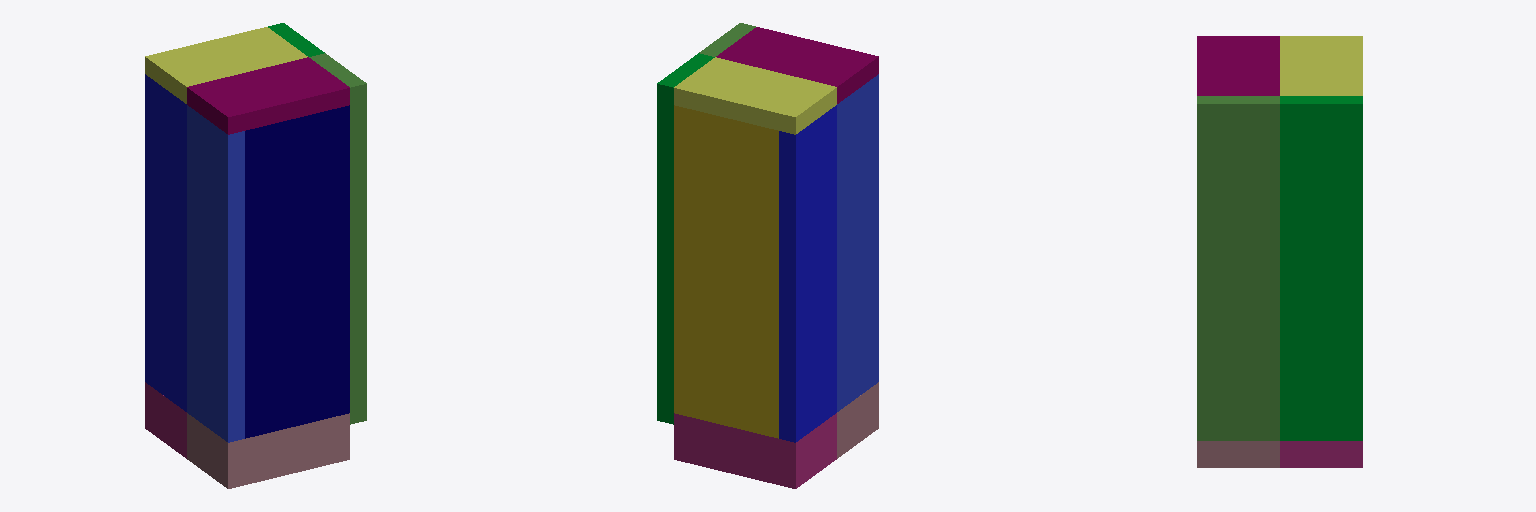
File: kitchen_fridge.obj
3 views of the same model, side by side, from view 1: azimuth 30°, elevation 25°; view 2: azimuth 150°, elevation 25°; view 3: azimuth 270°, elevation 25° (orthographic).
Parts seen in each view (by area): view 1: Shape_IndexedFaceSet.007, Shape_IndexedFaceSet.006, Shape_IndexedFaceSet.009, Shape_IndexedFaceSet.003, Shape_IndexedFaceSet.002, Shape_IndexedFaceSet, Shape_IndexedFaceSet.005, Shape_IndexedFaceSet.004, Shape_IndexedFaceSet.001; view 2: Shape_IndexedFaceSet.008, Shape_IndexedFaceSet.009, Shape_IndexedFaceSet.006, Shape_IndexedFaceSet.005, Shape_IndexedFaceSet.004, Shape_IndexedFaceSet.001, Shape_IndexedFaceSet.003, Shape_IndexedFaceSet.002, Shape_IndexedFaceSet; view 3: Shape_IndexedFaceSet.001, Shape_IndexedFaceSet, Shape_IndexedFaceSet.005, Shape_IndexedFaceSet.003, Shape_IndexedFaceSet.004, Shape_IndexedFaceSet.002.
Part boxes in pixels (x1,y1,x2,y2): Shape_IndexedFaceSet.007: (245,105,349,438); Shape_IndexedFaceSet.006: (187,105,244,442); Shape_IndexedFaceSet.009: (145,74,186,411); Shape_IndexedFaceSet.003: (187,57,349,134); Shape_IndexedFaceSet.002: (187,413,349,488); Shape_IndexedFaceSet: (309,53,366,424); Shape_IndexedFaceSet.005: (145,27,307,103); Shape_IndexedFaceSet.004: (145,382,186,458); Shape_IndexedFaceSet.001: (268,23,324,56); Shape_IndexedFaceSet.008: (674,105,778,438); Shape_IndexedFaceSet.009: (779,105,836,442); Shape_IndexedFaceSet.006: (837,74,878,411); Shape_IndexedFaceSet.005: (674,57,836,134); Shape_IndexedFaceSet.004: (674,413,836,488); Shape_IndexedFaceSet.001: (657,53,714,424); Shape_IndexedFaceSet.003: (716,27,878,103); Shape_IndexedFaceSet.002: (837,382,878,458); Shape_IndexedFaceSet: (699,23,755,56); Shape_IndexedFaceSet.001: (1280,96,1362,440); Shape_IndexedFaceSet: (1197,96,1279,440); Shape_IndexedFaceSet.005: (1280,36,1362,95); Shape_IndexedFaceSet.003: (1197,36,1279,95); Shape_IndexedFaceSet.004: (1280,441,1362,467); Shape_IndexedFaceSet.002: (1197,441,1279,467).
Bounding box in the file's own units: 0.5992 × 1.53 × 0.6232.